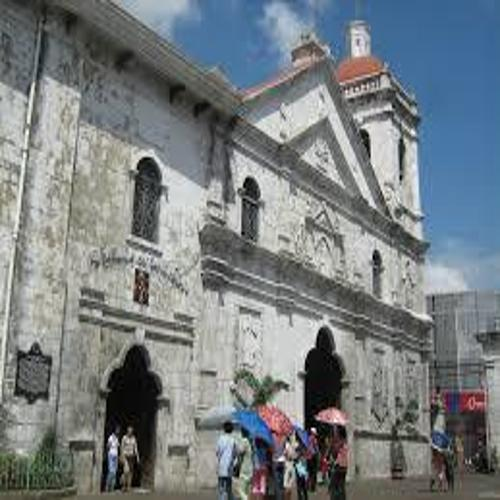Sto. Nino Basilica Church: (205, 6, 443, 491)
